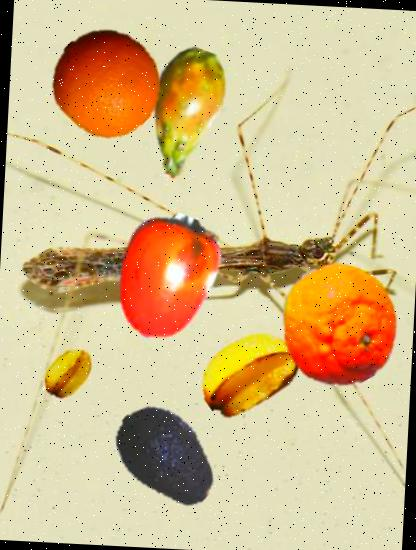Avocado: (107, 396, 226, 516)
Cactus: (114, 43, 252, 181)
Carambula: (194, 318, 302, 426), (39, 344, 98, 402)
Kaki: (99, 208, 235, 344)
Mandarine: (274, 260, 404, 389)
Orange: (50, 24, 165, 139)
